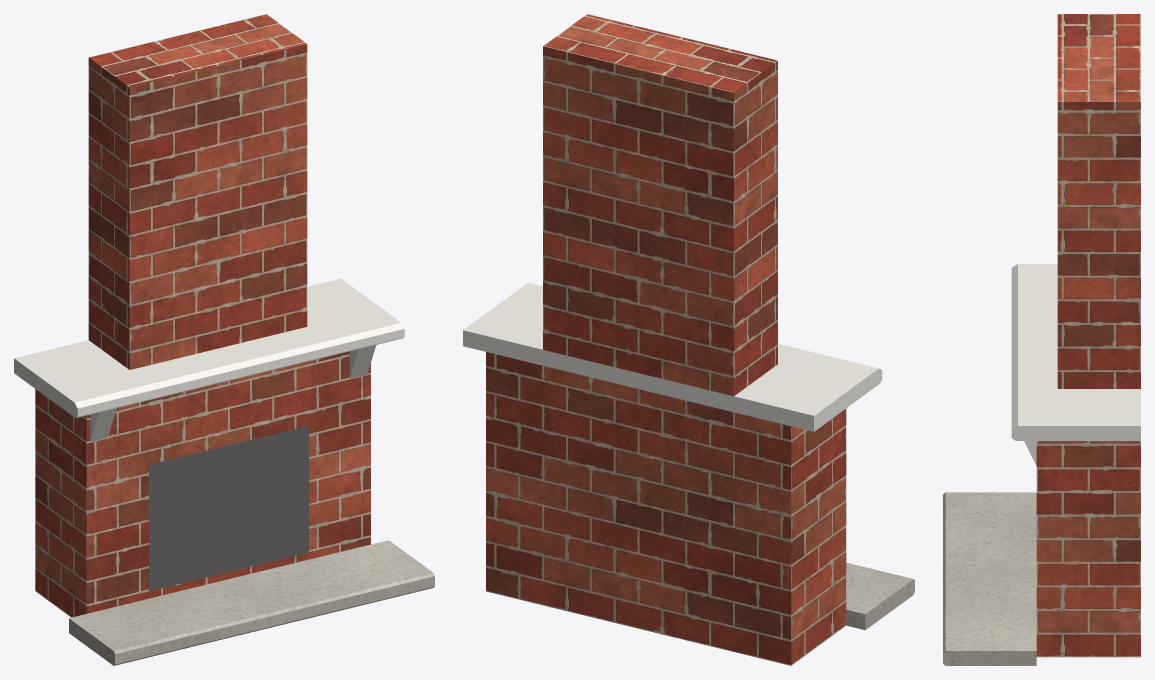
The model's file is fireplace.glb.
3 views of the same model, side by side, from view 1: azimuth 30°, elevation 25°; view 2: azimuth 150°, elevation 25°; view 3: azimuth 270°, elevation 25° (orthographic). The views are drawn at different scales.
Visible parts, largest first — view 1: fireplace_brick, fireplace_dark, fireplace_cap, fireplace_trim; view 2: fireplace_brick, fireplace_trim, fireplace_cap; view 3: fireplace_brick, fireplace_cap, fireplace_trim.
Part boxes in pixels (x1,y1,x2,y2): fireplace_brick: [35, 14, 370, 617]; fireplace_dark: [149, 425, 308, 591]; fireplace_cap: [69, 540, 434, 665]; fireplace_trim: [14, 278, 404, 441]; fireplace_brick: [486, 14, 846, 665]; fireplace_trim: [463, 282, 882, 431]; fireplace_cap: [846, 562, 914, 630]; fireplace_brick: [1036, 14, 1140, 657]; fireplace_cap: [943, 492, 1036, 665]; fireplace_trim: [1011, 264, 1140, 465].
Bounding box in the file's own units: 1.84 × 2.8 × 0.95.
Materials: 4 (2 with a texture image).
